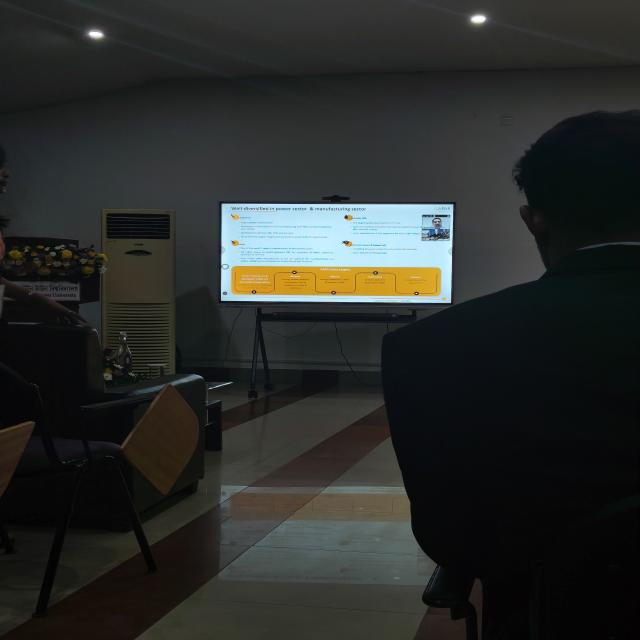monitor: (223, 204, 454, 304)
person: (396, 109, 640, 640)
